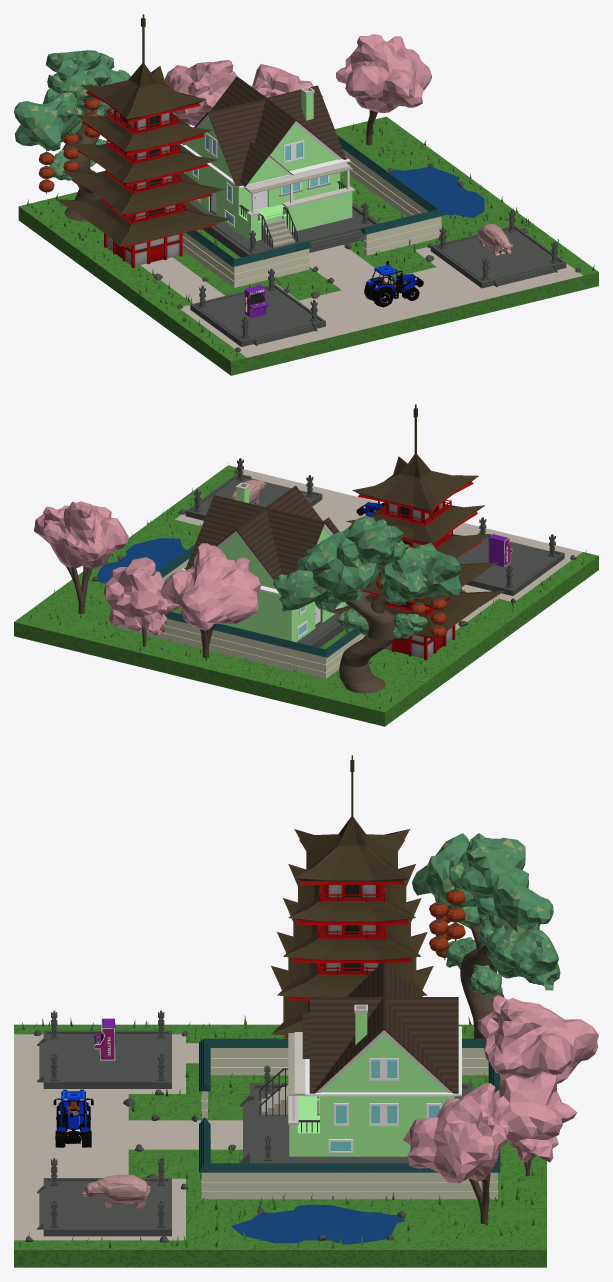
The picture shows the model from 3 angles, top to bottom: view 1: azimuth 30°, elevation 25°; view 2: azimuth 150°, elevation 25°; view 3: azimuth 270°, elevation 25°; orthographic projection. The views are drawn at different scales.
Visible parts, largest first — view 1: Cube.005, Cube.274, VEHICLES_TRACTOR, ANIMAL_HIPOPOTAMO, OBJRANDOM_ARCADE; view 2: Cube.005, Cube.274, OBJRANDOM_ARCADE; view 3: Cube.005, Cube.274, VEHICLES_TRACTOR, ANIMAL_HIPOPOTAMO, OBJRANDOM_ARCADE.
Part boxes in pixels (box(x1,y1,x2,y2)): Cube.005: box(14, 14, 598, 375); Cube.274: box(179, 76, 354, 248); VEHICLES_TRACTOR: box(364, 260, 423, 307); ANIMAL_HIPOPOTAMO: box(477, 224, 512, 255); OBJRANDOM_ARCADE: box(244, 284, 268, 318); Cube.005: box(14, 404, 598, 726); Cube.274: box(181, 482, 347, 642); OBJRANDOM_ARCADE: box(488, 533, 512, 566); Cube.005: box(14, 755, 598, 1267); Cube.274: box(259, 961, 461, 1156); VEHICLES_TRACTOR: box(53, 1089, 93, 1147); ANIMAL_HIPOPOTAMO: box(81, 1174, 150, 1208); OBJRANDOM_ARCADE: box(94, 1018, 115, 1060).
Bounding box in the file's own units: 4528 × 2693 × 4389.
44 materials, 5 textured.
